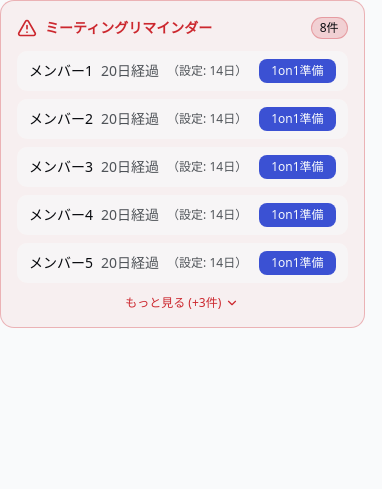
Test case: ReminderAlertBanner › 表示件数上限と「もっと見る」機能 › 「折りたたむ」ボタンをクリックすると5件に戻る
The width and height of the screenshot is (382, 489).
Step 1. Click the button "もっと見る (+3件)" → [182, 303], box [125,295,239,311]
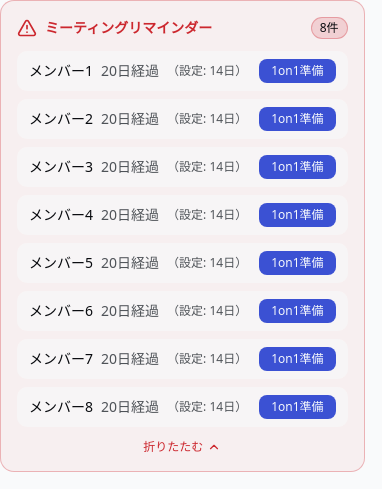
Step 2. Click the button "折りたたむ" → [182, 447], box [143,439,221,455]
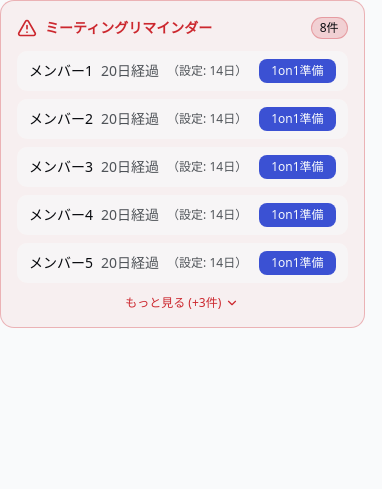
Now the number of list items is 5, box [17,51,348,91]; [17,99,348,139]; [17,147,348,187]; [17,195,348,235]; [17,243,348,283]
